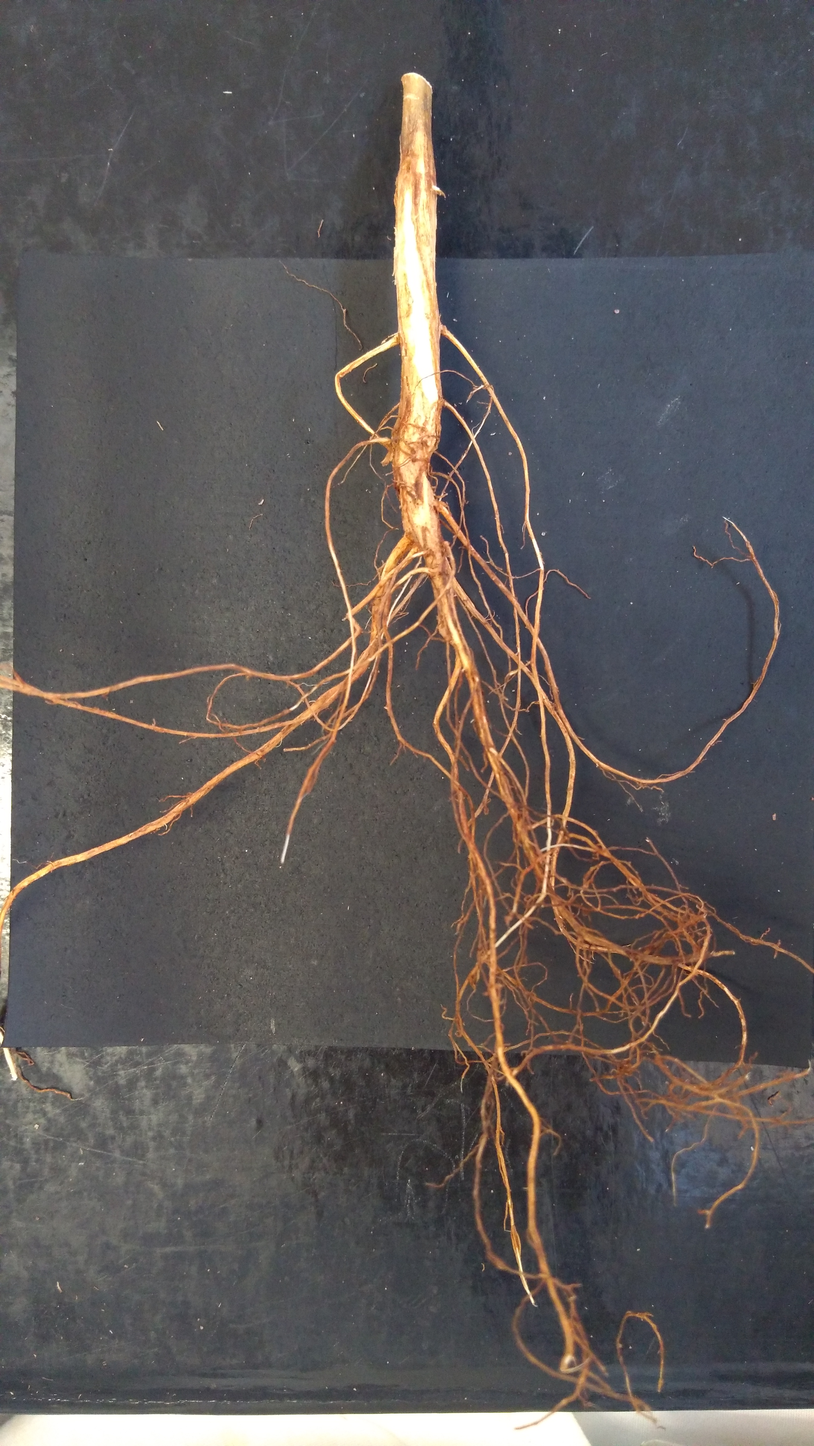nodule: (385, 446, 395, 462), (434, 500, 446, 513), (441, 540, 450, 554), (375, 584, 384, 597), (483, 807, 489, 815), (541, 532, 545, 536), (377, 670, 380, 673)
